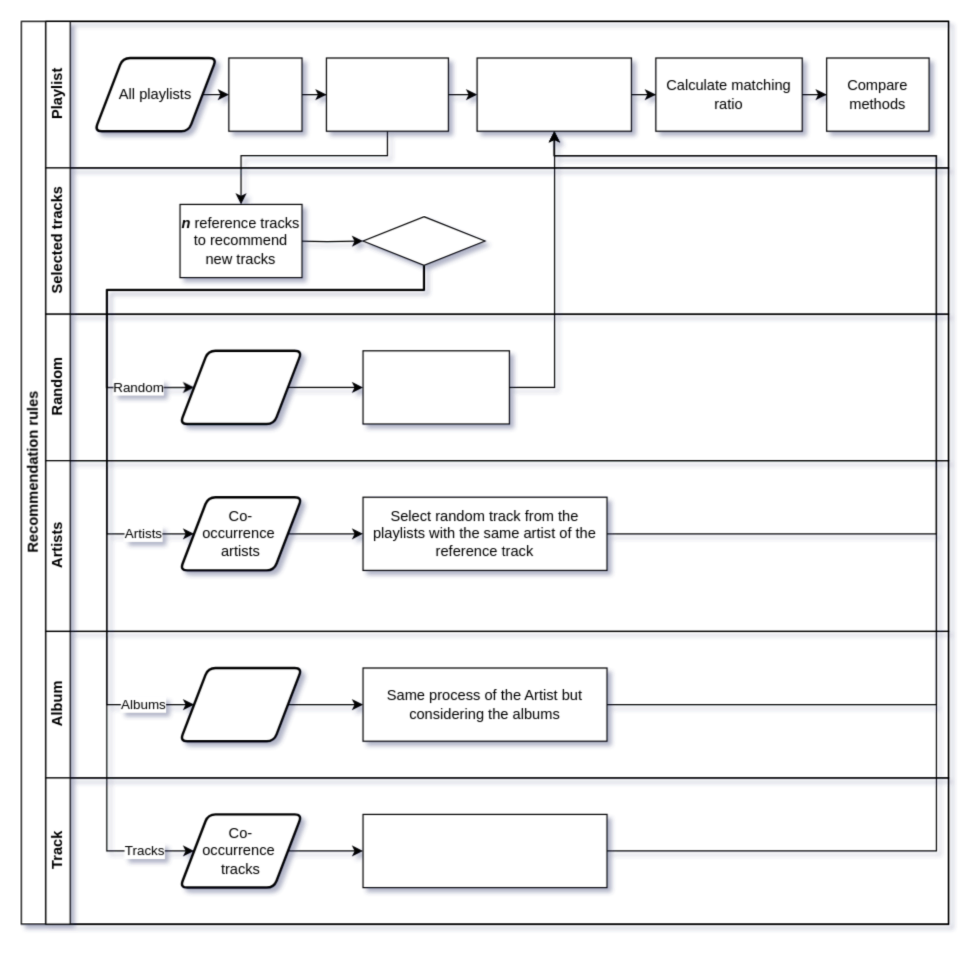
Some shapes in this 977 by 953 pixel diagram are drawn without their labels. Each missing label, with the centre of its shape:
"All tracks" goes at (x=240, y=387).
"Co- occurrence albums" goes at (x=240, y=704).
"For each playlist" goes at (x=265, y=94).
"Method" goes at (x=423, y=240).
"Remaining tracks will be compared against the recommendations" goes at (x=553, y=94).
"Same process of the Artist but considering the tracks" goes at (x=484, y=850).
"Select 50% of the tracks randomly" goes at (x=386, y=94).
"Select randomly n tracks that are not in reference tracks" goes at (x=435, y=387).
